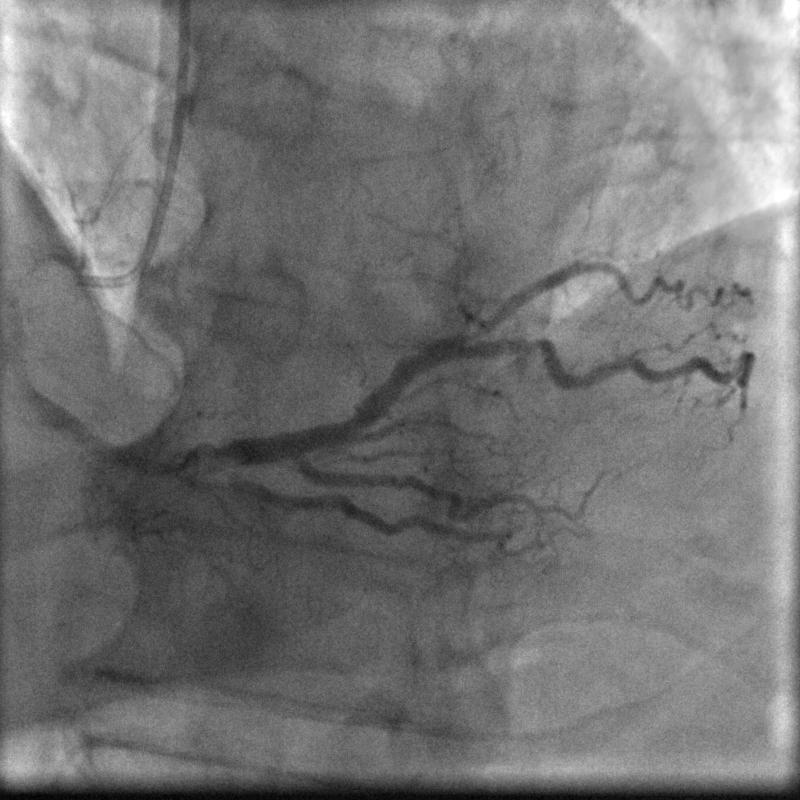Stenosis: (492, 331, 556, 358)
